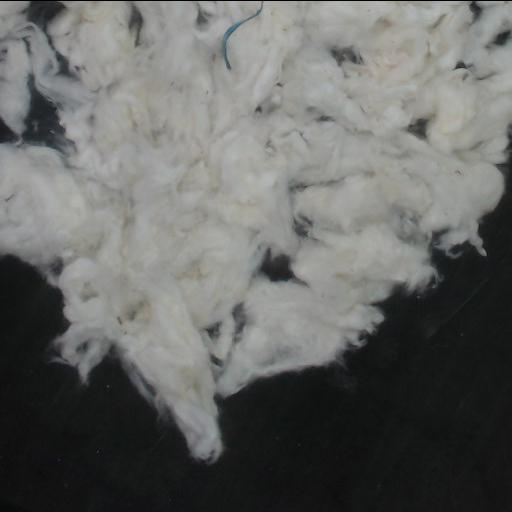conveyor belt: (0, 163, 511, 512), (24, 90, 62, 145), (29, 1, 62, 24), (263, 258, 291, 279), (0, 122, 16, 141)
cotton: (0, 1, 511, 461)
thread: (220, 1, 263, 70)
